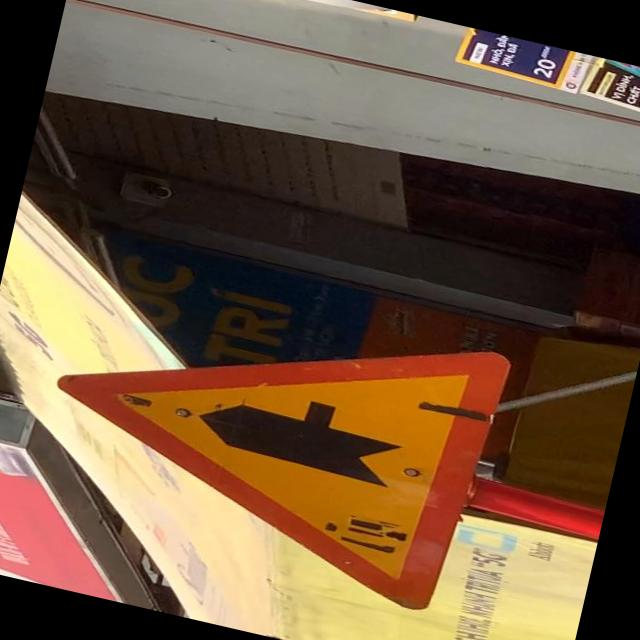W-207b: (26, 255, 512, 617)
